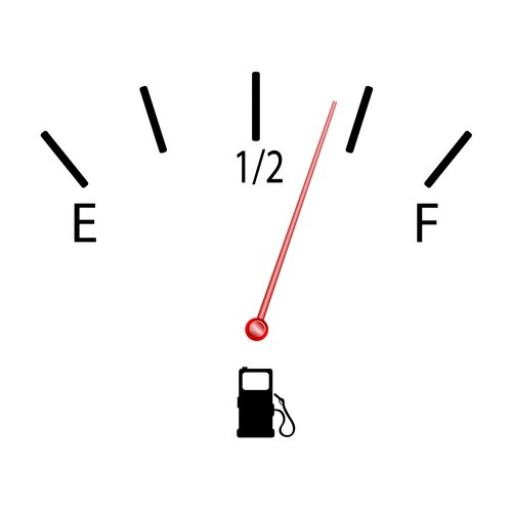empty: (72, 200, 99, 244)
fuel_icon: (234, 364, 292, 441)
full: (413, 201, 441, 243)
guage_area: (34, 70, 476, 444)
needle_center: (240, 309, 272, 344)
needle_tip: (319, 98, 343, 142)
